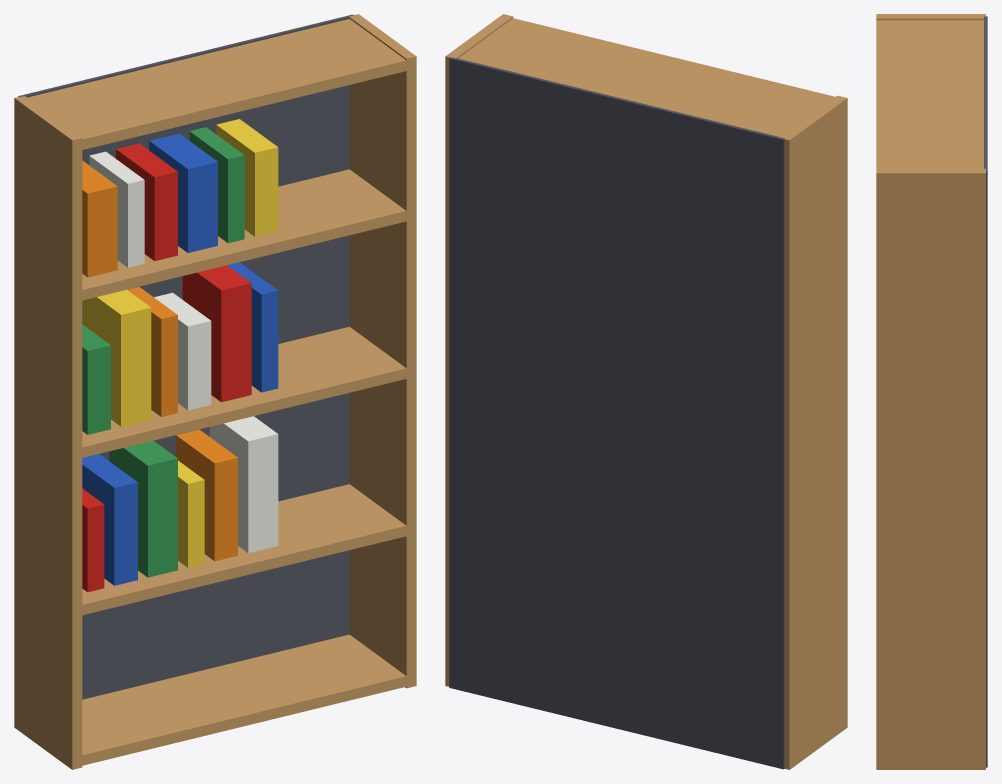
File: bookshelf.glb
3 views of the same model, side by side, from view 1: azimuth 30°, elevation 25°; view 2: azimuth 150°, elevation 25°; view 3: azimuth 270°, elevation 25° (orthographic). The views are drawn at different scales.
Parts seen in each view (by area): view 1: bookshelf; view 2: bookshelf; view 3: bookshelf.
Boxes of the visible parts, x1,y1,x2,y2 form: bookshelf: (14,14,416,769); bookshelf: (445,14,847,769); bookshelf: (876,14,987,769).
Bounding box in the file's own units: 1.03 × 1.8 × 0.305.
